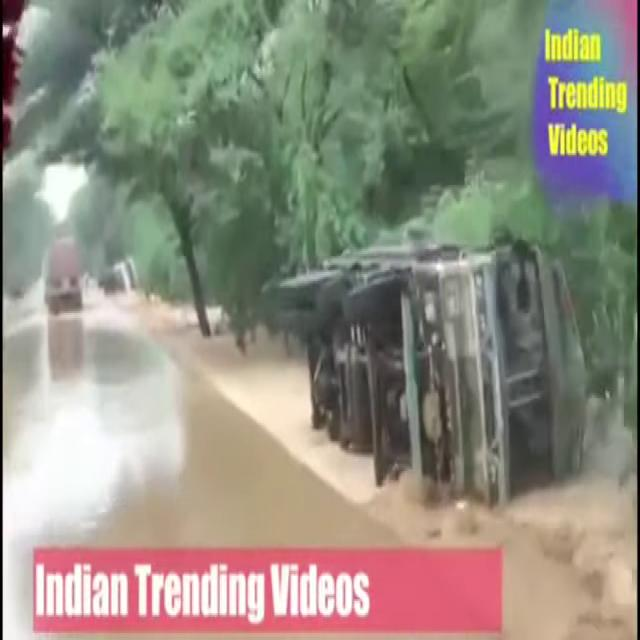accident: (261, 195, 571, 516)
